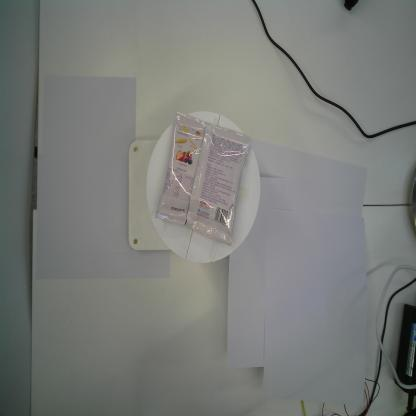Instant Drink: (155, 110, 253, 248)
